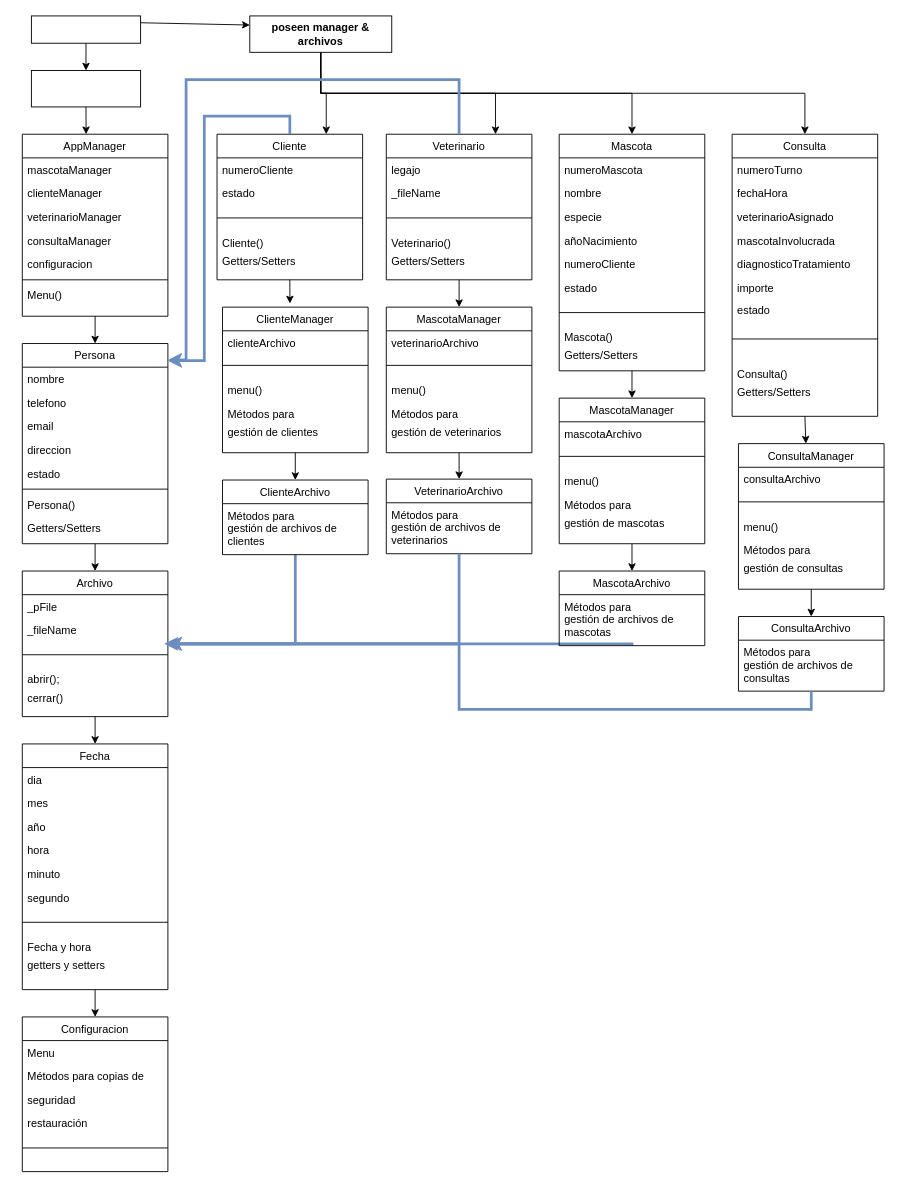
Some shapes in this 900 by 1188 pixel diagram are drawn without their labels. Here are the shapes that lost their labels. From the top down, the centre of each, then its label:
At pixel 85 29: "clases Principales".
At pixel 85 88: "no poseen manager/archivos".
